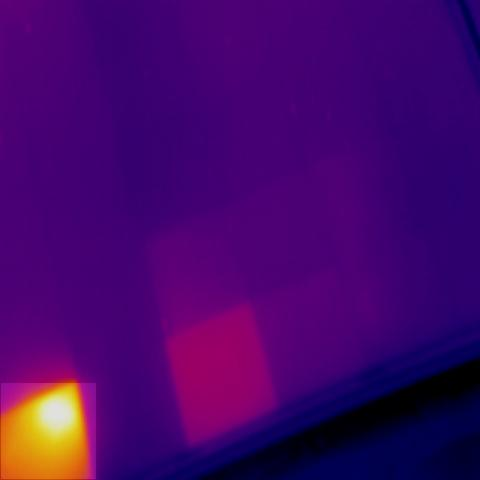fault: (1, 383, 96, 479)
